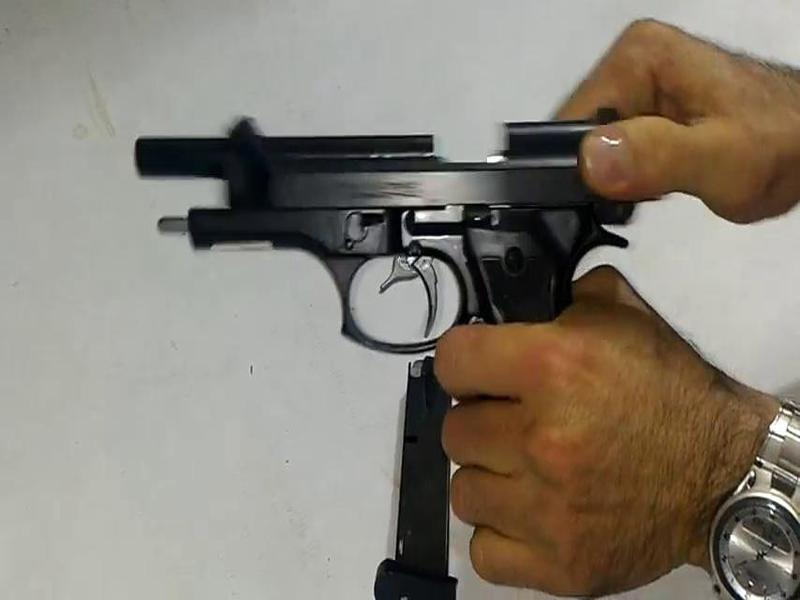Pistola: (107, 106, 667, 410)
